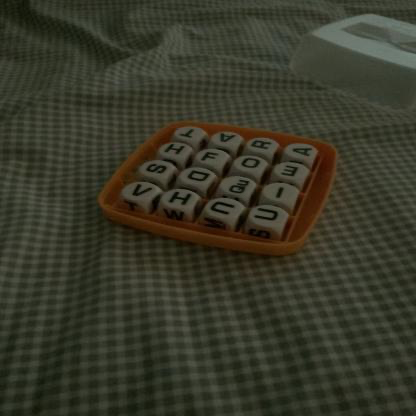a: (287, 143, 318, 161), (217, 130, 240, 146)
d: (186, 169, 216, 185)
e: (278, 162, 304, 183)
f: (199, 149, 222, 166)
h: (168, 189, 196, 210), (160, 142, 189, 158)
i: (267, 183, 294, 203)
o: (239, 156, 266, 173)
qu: (226, 176, 255, 197)
r: (249, 136, 277, 154)
s: (145, 160, 169, 179)
t: (175, 126, 201, 141)
u: (253, 204, 283, 225), (208, 199, 239, 219)
v: (125, 181, 157, 201)
